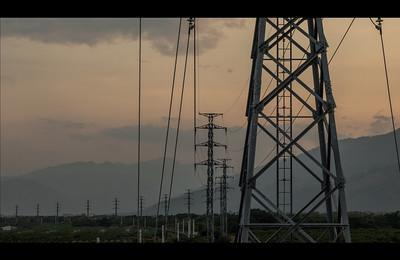power_tower: (191, 110, 230, 241)
